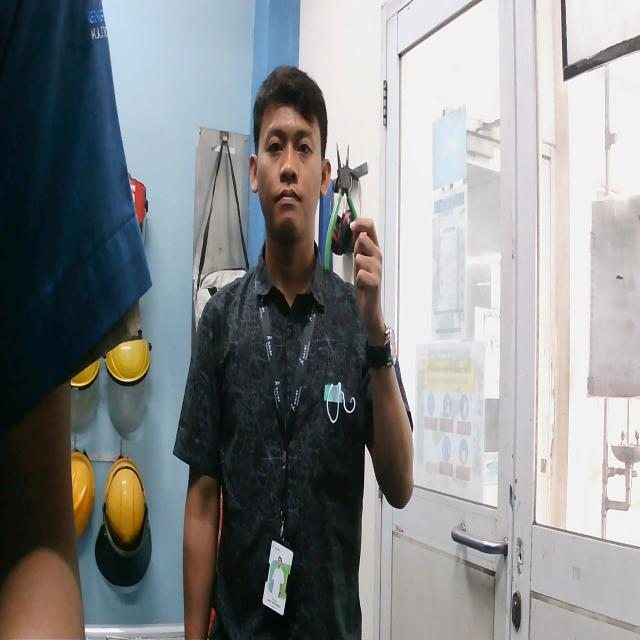tang_scun_hidrolik: (317, 139, 370, 275)
